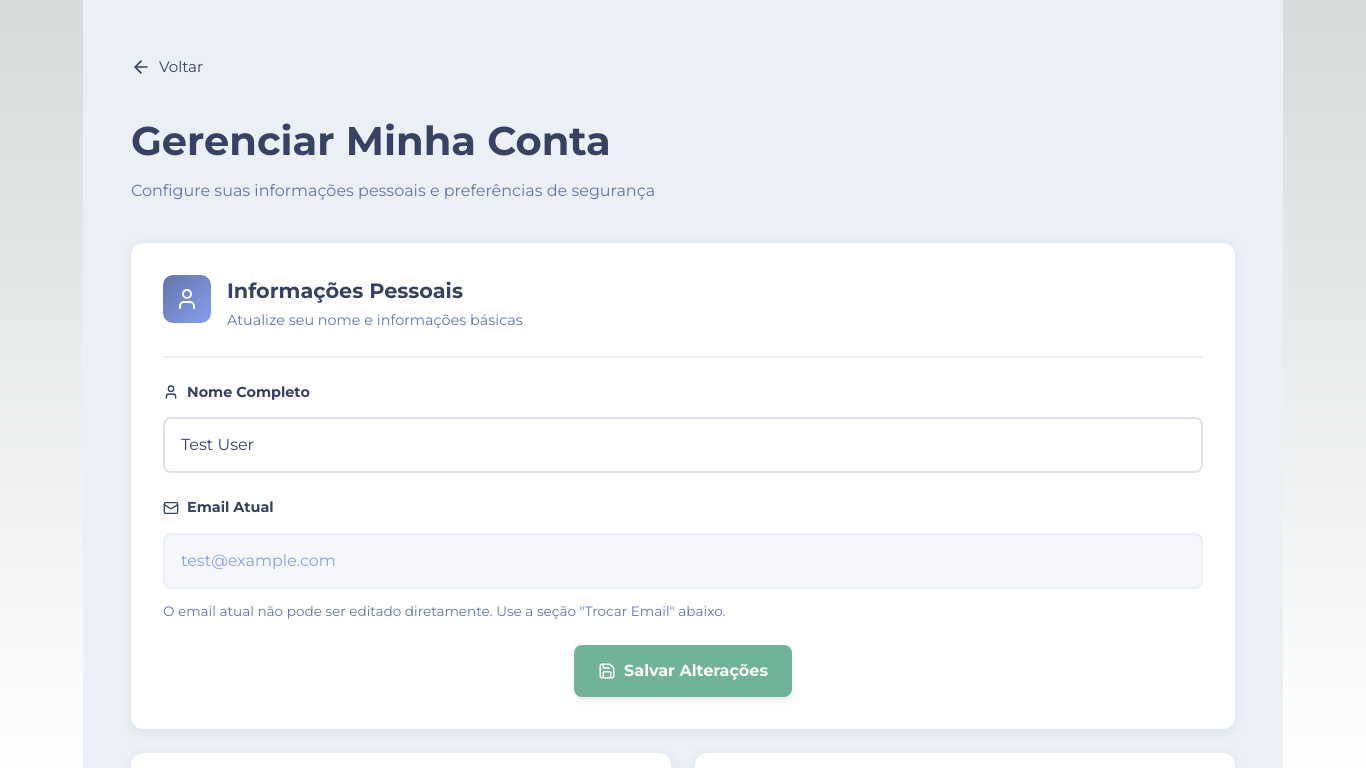
Test: UserEdit › deve atualizar o nome com sucesso
Replace the text in the field labelled "Nome Completo" with "New Name" at (683, 445), box x1=163 y1=417 x2=1203 y2=473
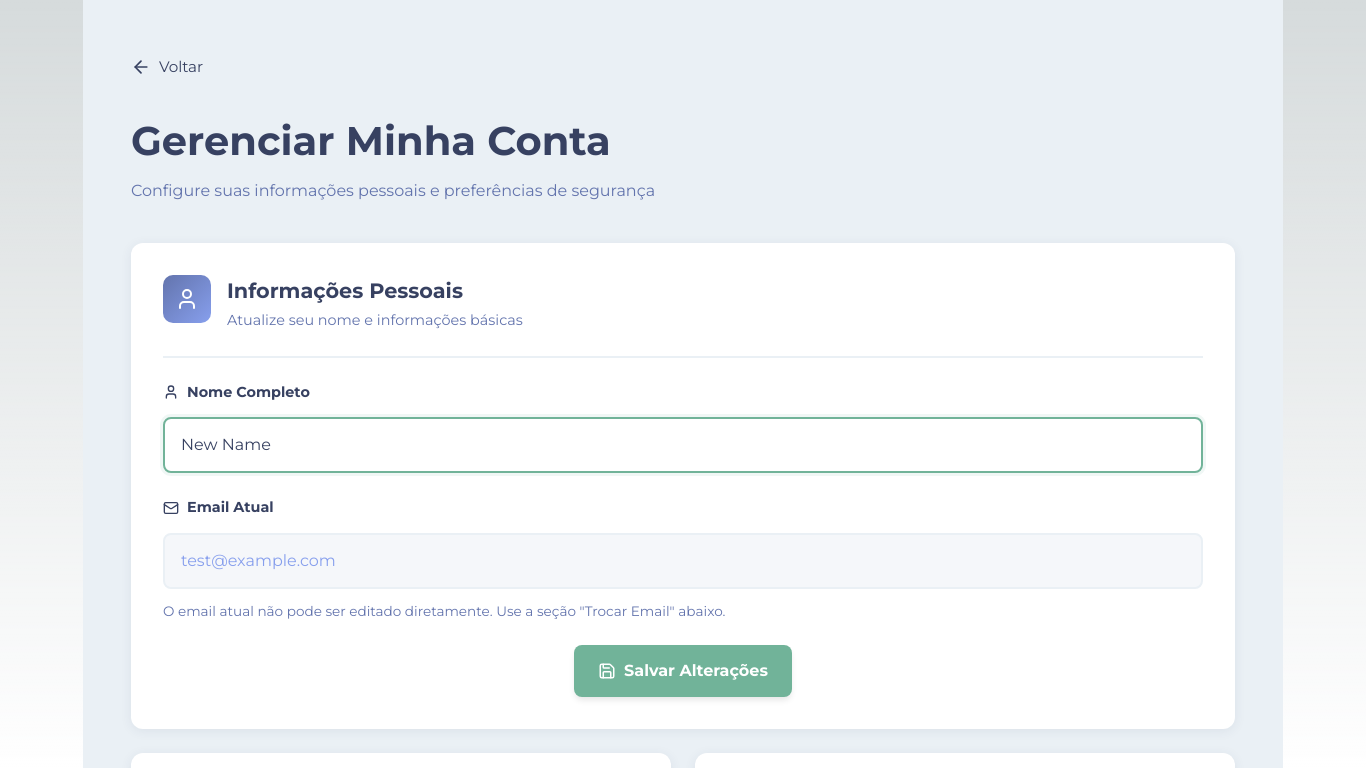
Click the button "Salvar Alterações" at (683, 671), box x1=574 y1=645 x2=792 y2=697
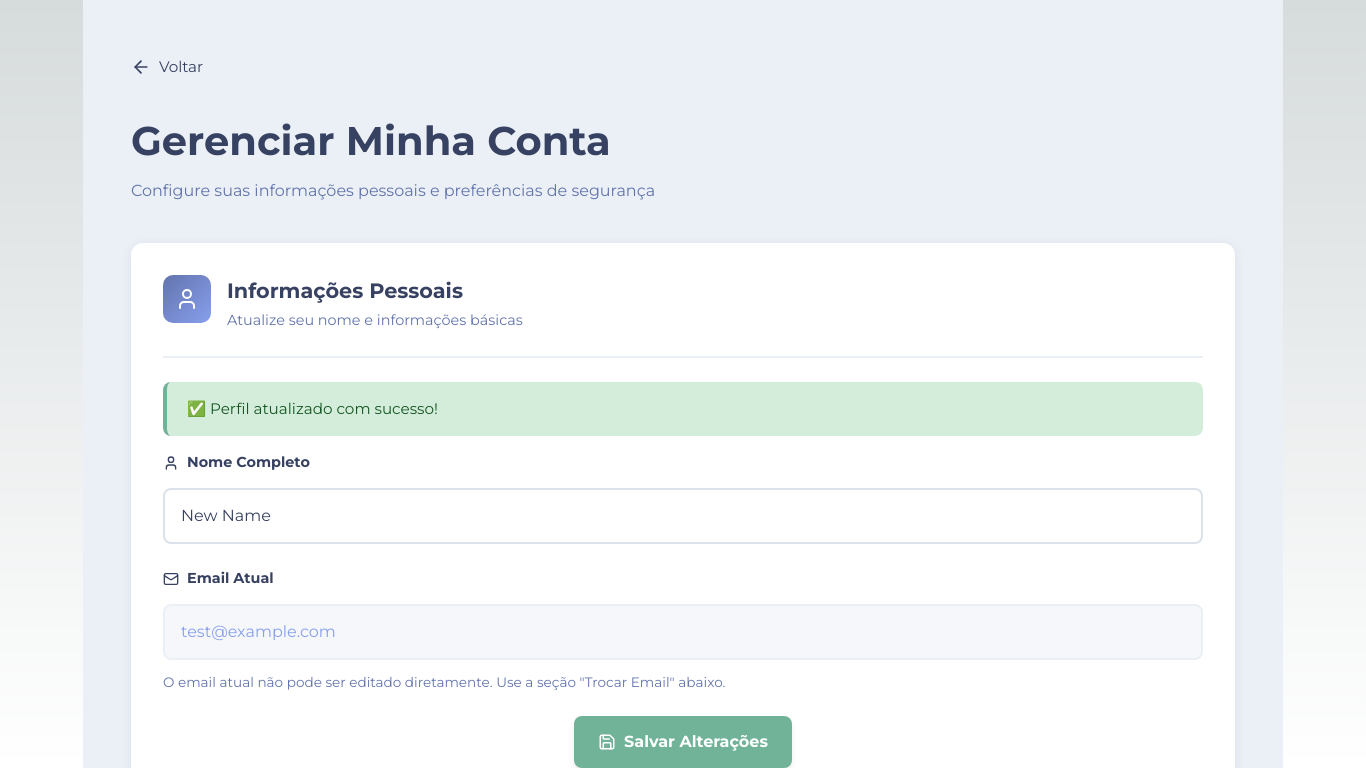
expect the text "✅ Perfil atualizado com sucesso!" is shown: met, box x1=163 y1=382 x2=1203 y2=436
